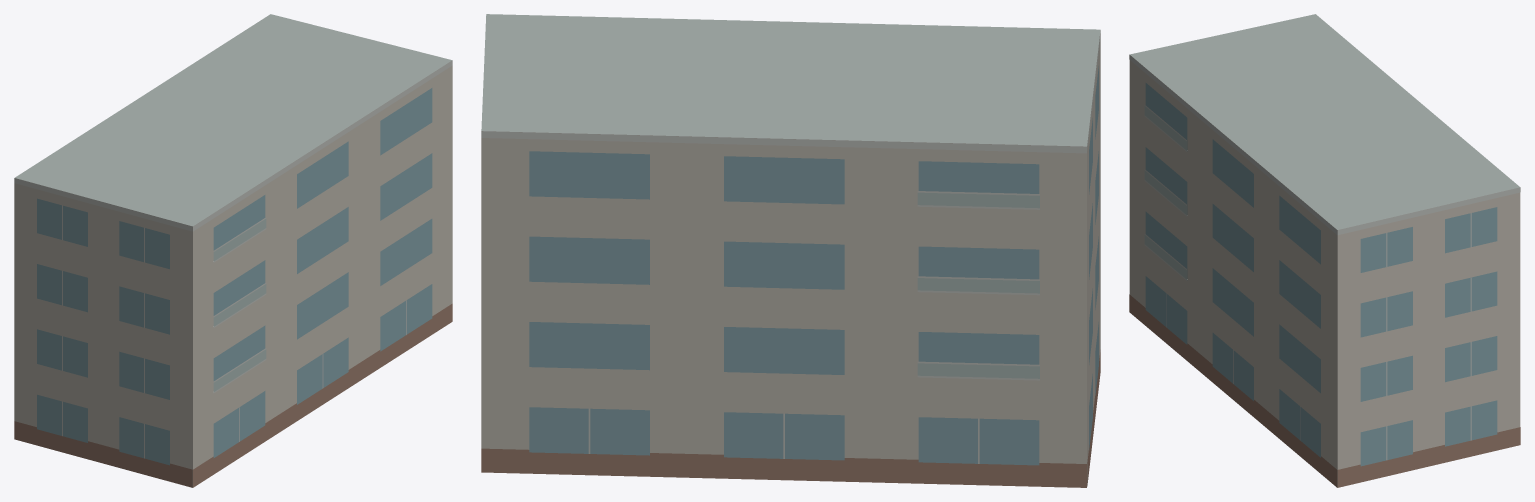
File: survey-upis-32872506.glb
The picture shows the model from 3 angles, left to right: view 1: azimuth 30°, elevation 25°; view 2: azimuth 150°, elevation 25°; view 3: azimuth 270°, elevation 25°; orthographic projection. The views are drawn at different scales.
Parts seen in each view (by area): view 1: survey-upis-32872506.tmp; view 2: survey-upis-32872506.tmp; view 3: survey-upis-32872506.tmp.
Boxes of the visible parts, box(x1,y1,x2,y2) form: survey-upis-32872506.tmp: box(14, 14, 452, 487); survey-upis-32872506.tmp: box(481, 14, 1100, 487); survey-upis-32872506.tmp: box(1129, 14, 1520, 487).
Size of the model in its own units: 21.77 by 12.1 by 16.64.
